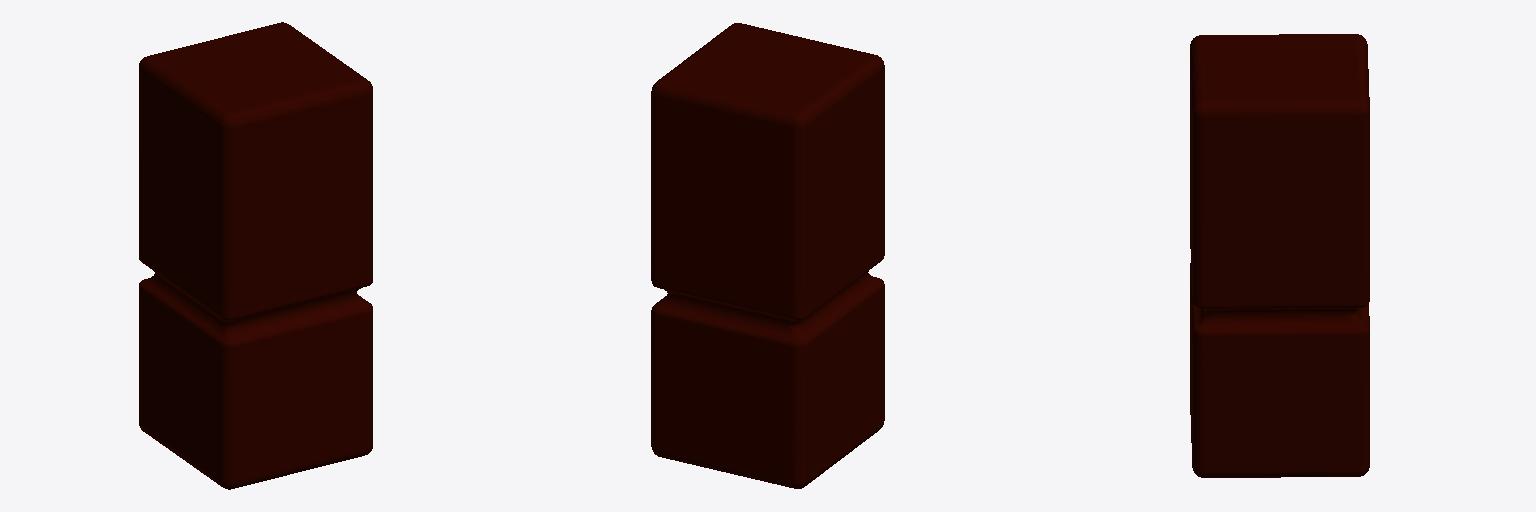
The model's file is grand-carree-maron.obj.
3 views of the same model, side by side, from view 1: azimuth 30°, elevation 25°; view 2: azimuth 150°, elevation 25°; view 3: azimuth 270°, elevation 25° (orthographic).
Visible parts, largest first — view 1: quarto-pieces; view 2: quarto-pieces; view 3: quarto-pieces.
Boxes of the visible parts, <box> form: quarto-pieces: <box>139,22,372,489</box>; quarto-pieces: <box>651,23,884,488</box>; quarto-pieces: <box>1190,34,1369,477</box>.
Bounding box in the file's own units: 30.39 × 70 × 30.39.